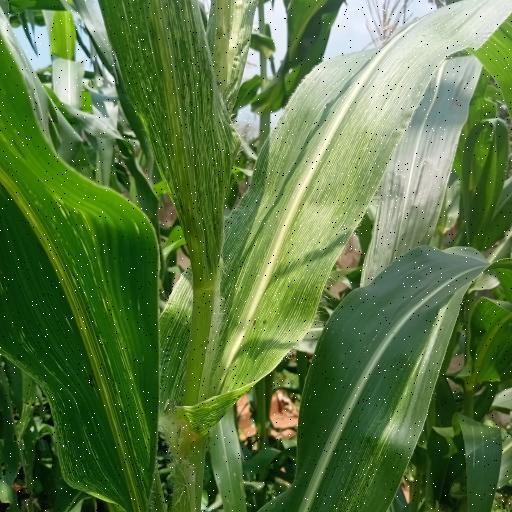Corn_Streak: (158, 0, 512, 430), (0, 22, 166, 490)
